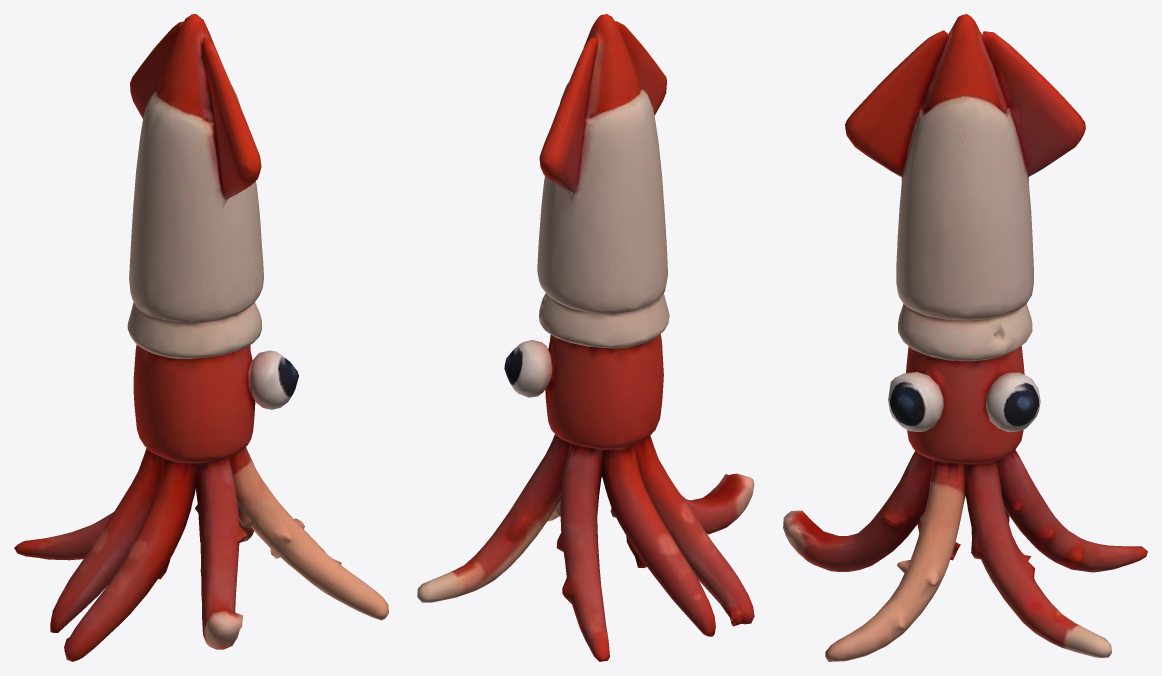
Rendered from squid.glb.
3 views of the same model, side by side, from view 1: azimuth 30°, elevation 25°; view 2: azimuth 150°, elevation 25°; view 3: azimuth 270°, elevation 25° (orthographic). The views are drawn at different scales.
Parts seen in each view (by area): view 1: tripo_node_9b21795e-251d-458c-b21d-bc0190c5e352; view 2: tripo_node_9b21795e-251d-458c-b21d-bc0190c5e352; view 3: tripo_node_9b21795e-251d-458c-b21d-bc0190c5e352.
Part boxes in pixels (x1,y1,x2,y2): tripo_node_9b21795e-251d-458c-b21d-bc0190c5e352: (14, 14, 388, 661); tripo_node_9b21795e-251d-458c-b21d-bc0190c5e352: (417, 14, 754, 661); tripo_node_9b21795e-251d-458c-b21d-bc0190c5e352: (783, 14, 1147, 661).
Bounding box in the file's own units: 0.467 × 1 × 0.545.
1 material, 1 textured.
